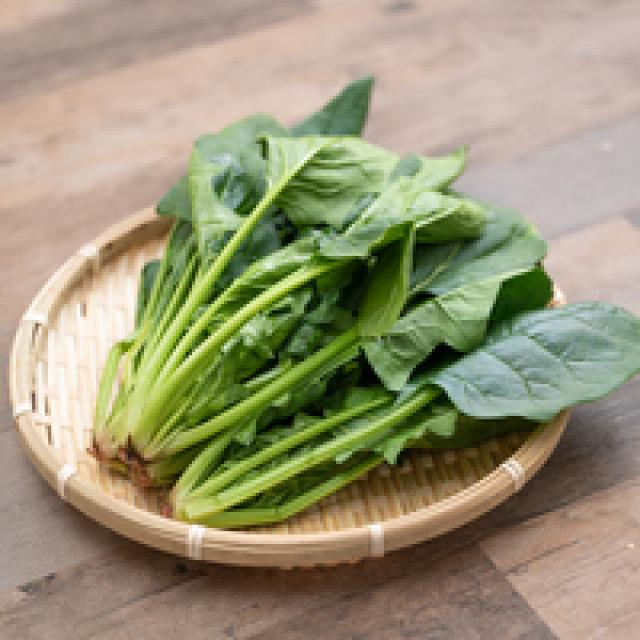Wet Waste: (74, 72, 640, 537)
